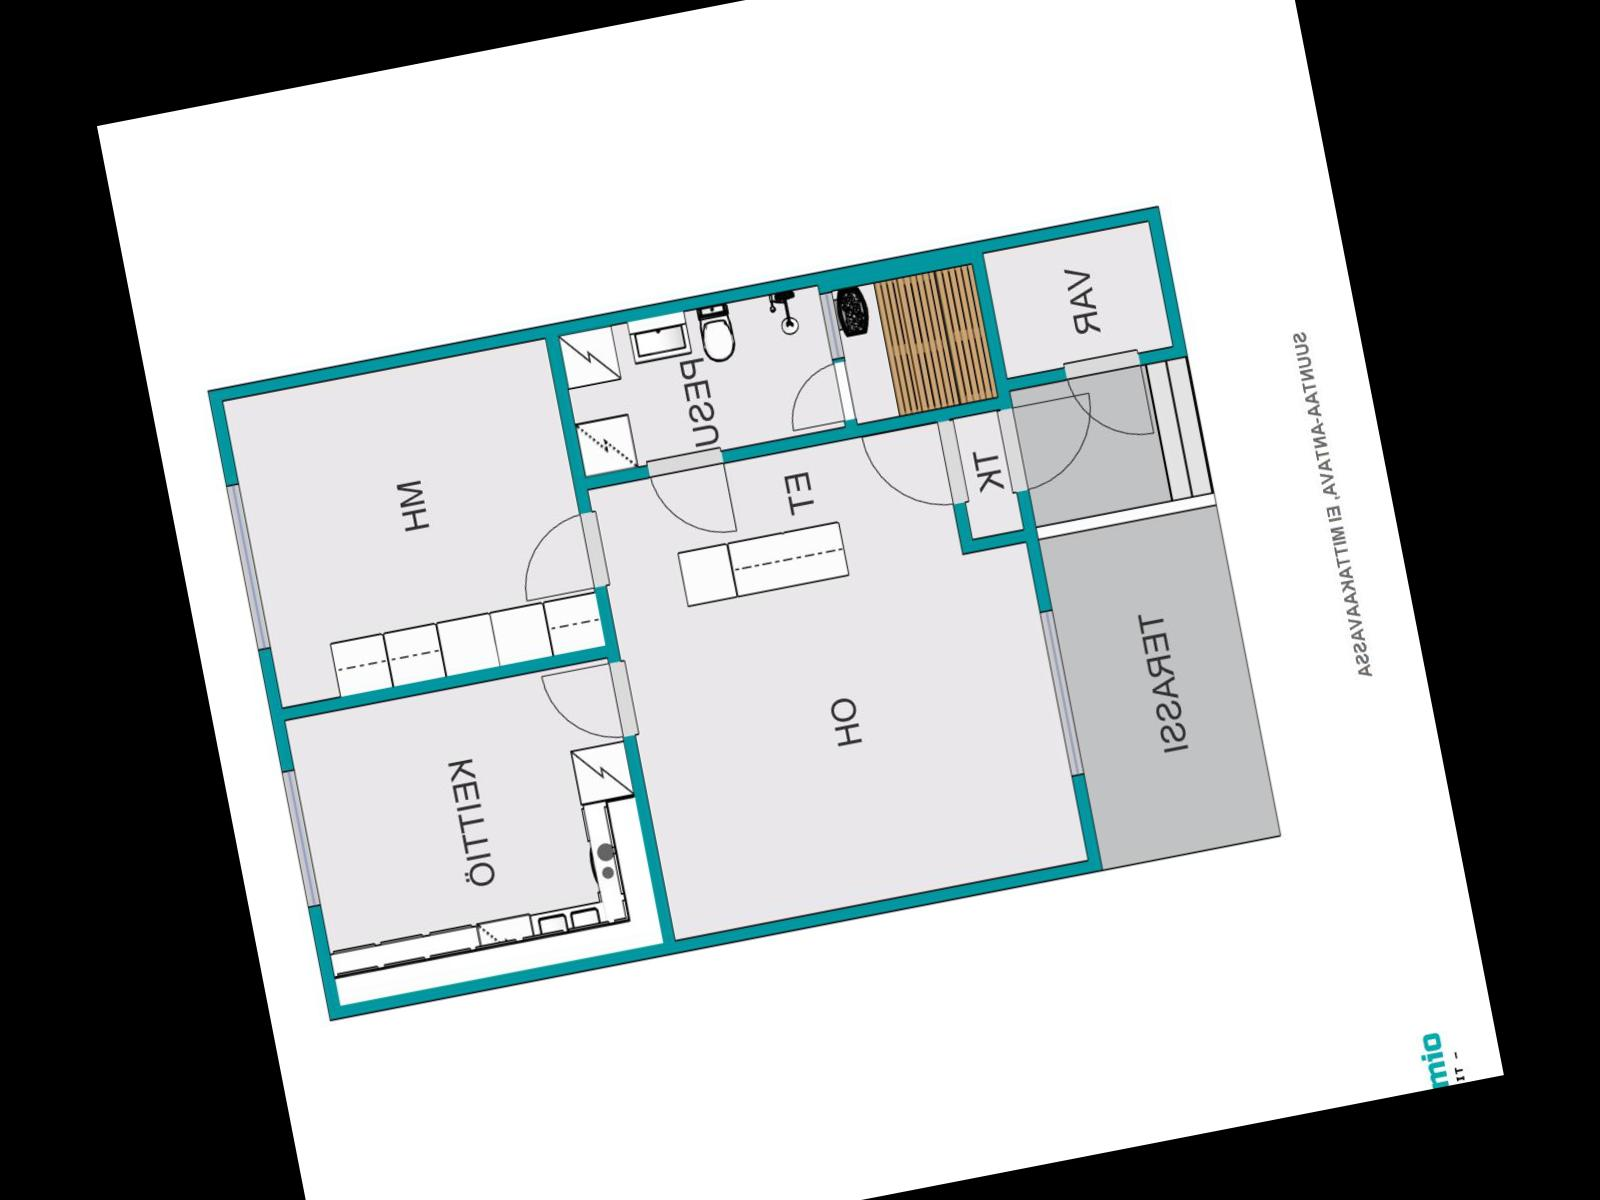door: (989, 383, 1110, 498), (858, 410, 973, 524), (640, 437, 741, 546), (1061, 343, 1162, 451), (538, 653, 643, 755), (509, 505, 612, 608), (776, 357, 860, 437)
window: (1028, 596, 1096, 789), (215, 468, 281, 664), (276, 753, 335, 920), (810, 279, 852, 373)
